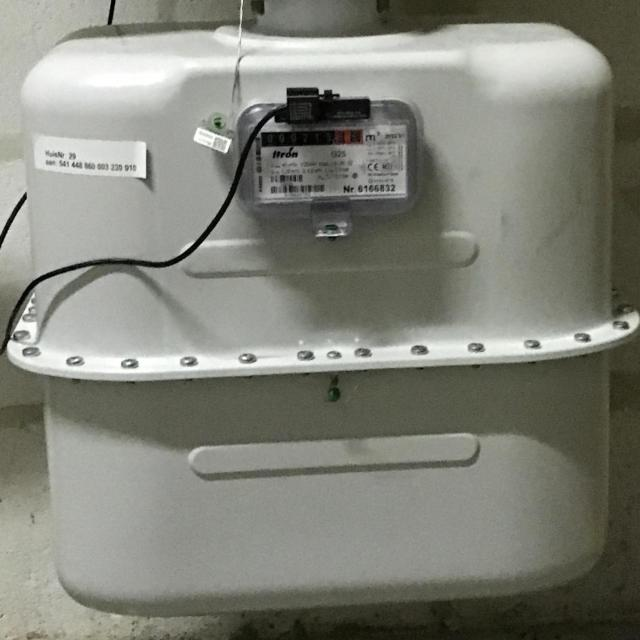gaz_meter: (252, 121, 411, 204)
indication: (260, 129, 367, 148)
